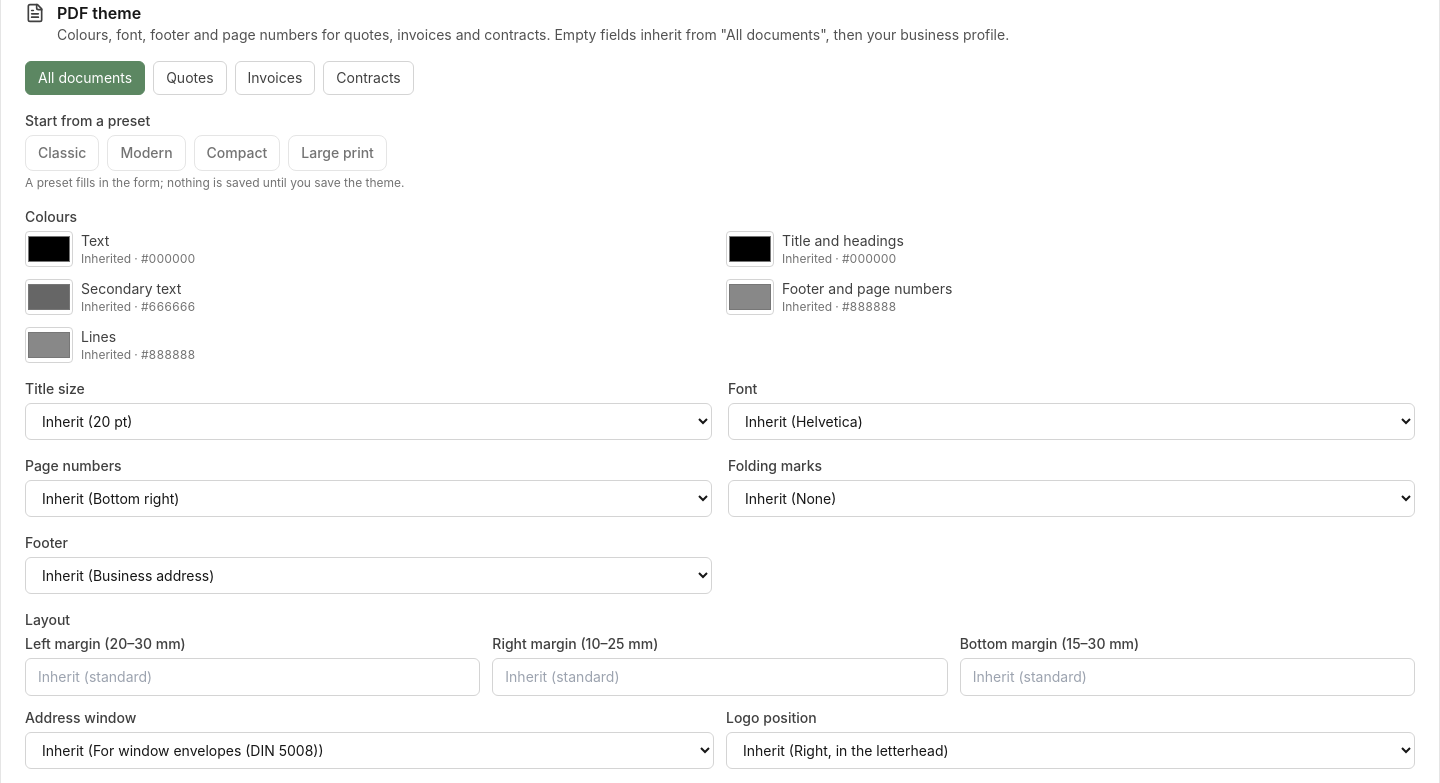
Test: a margin outside its bounds blocks saving; readability warnings inform without blocking
The image size is (1440, 783).
Type "12" into the number field labelled "Left margin (20–30 mm)" at point(253, 677), box [25,658,480,696]
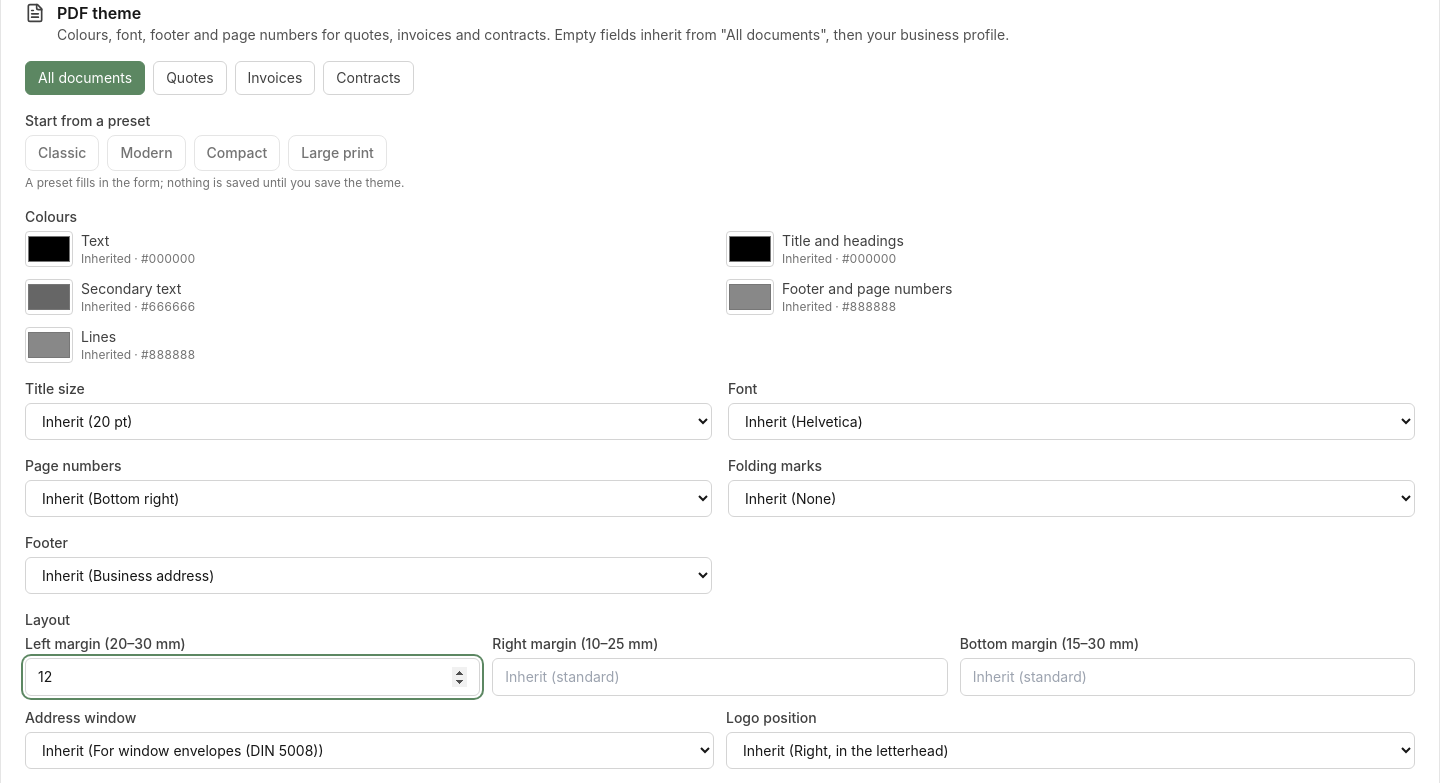
Clear the number field labelled "Left margin (20–30 mm)" at point(253, 677), box [25,658,480,696]
(page scrolled)
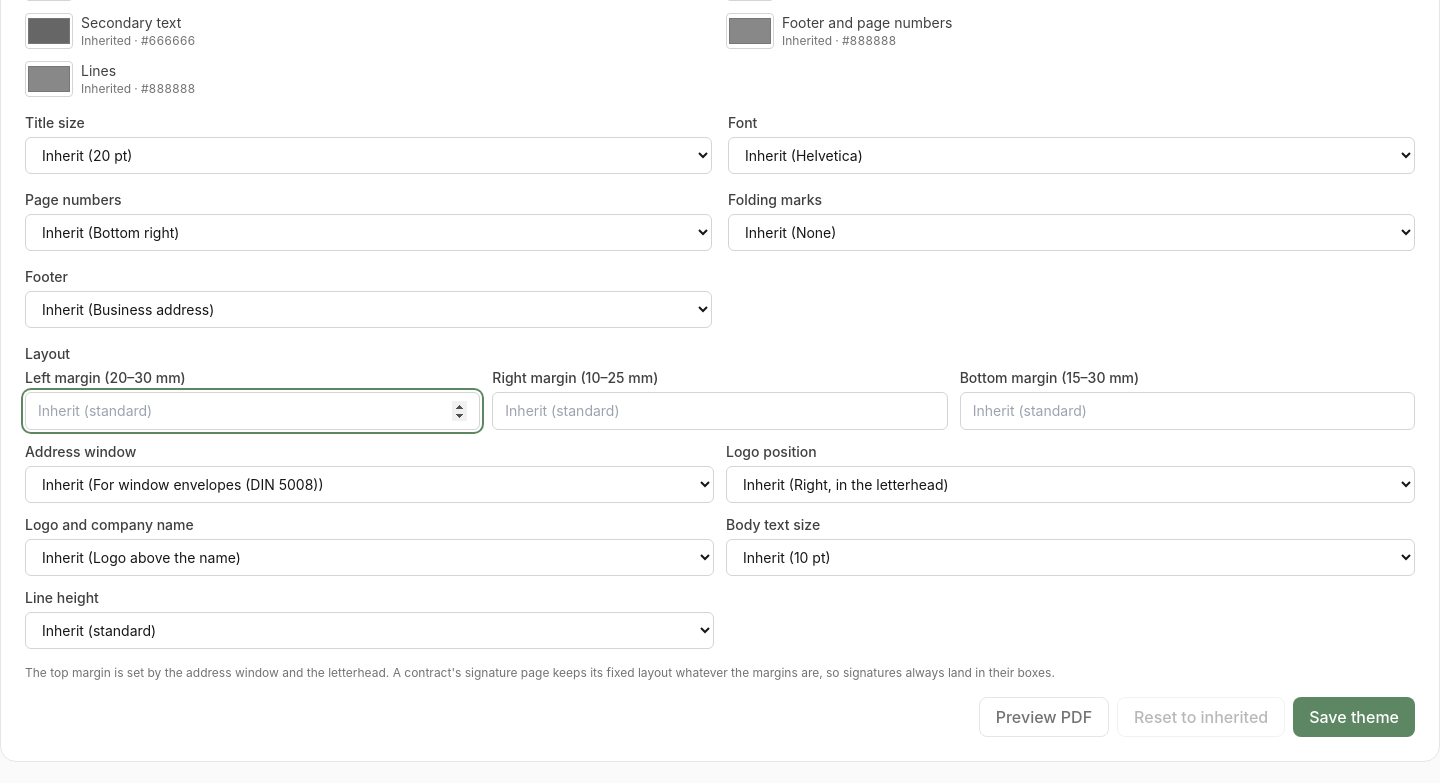
Select "9 pt" in the dropdown labelled "Body text size" at point(1070, 558), box [726,539,1415,576]
(page scrolled)
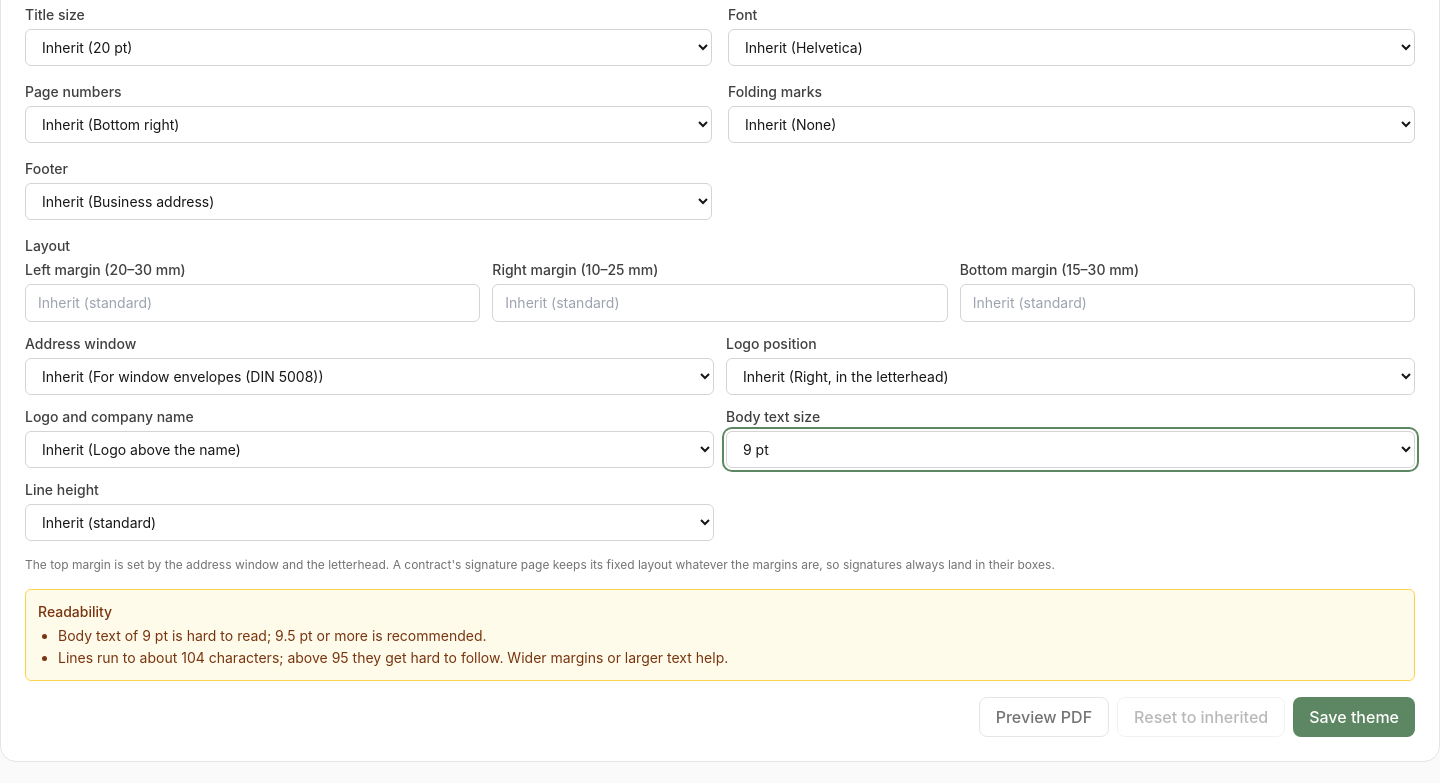
Check: the button "Save theme" is enabled, box [1293,697,1415,737]
Check: the list item "Body text of 9 pt is hard to read" is shown, box [58,627,487,644]
Check: the 2nd list item is shown, box [58,649,728,666]
